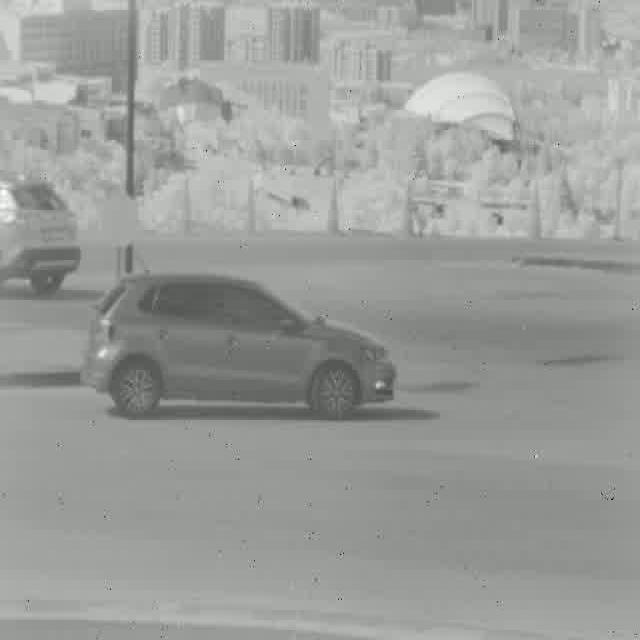Car: (82, 271, 394, 420), (0, 182, 79, 298)
